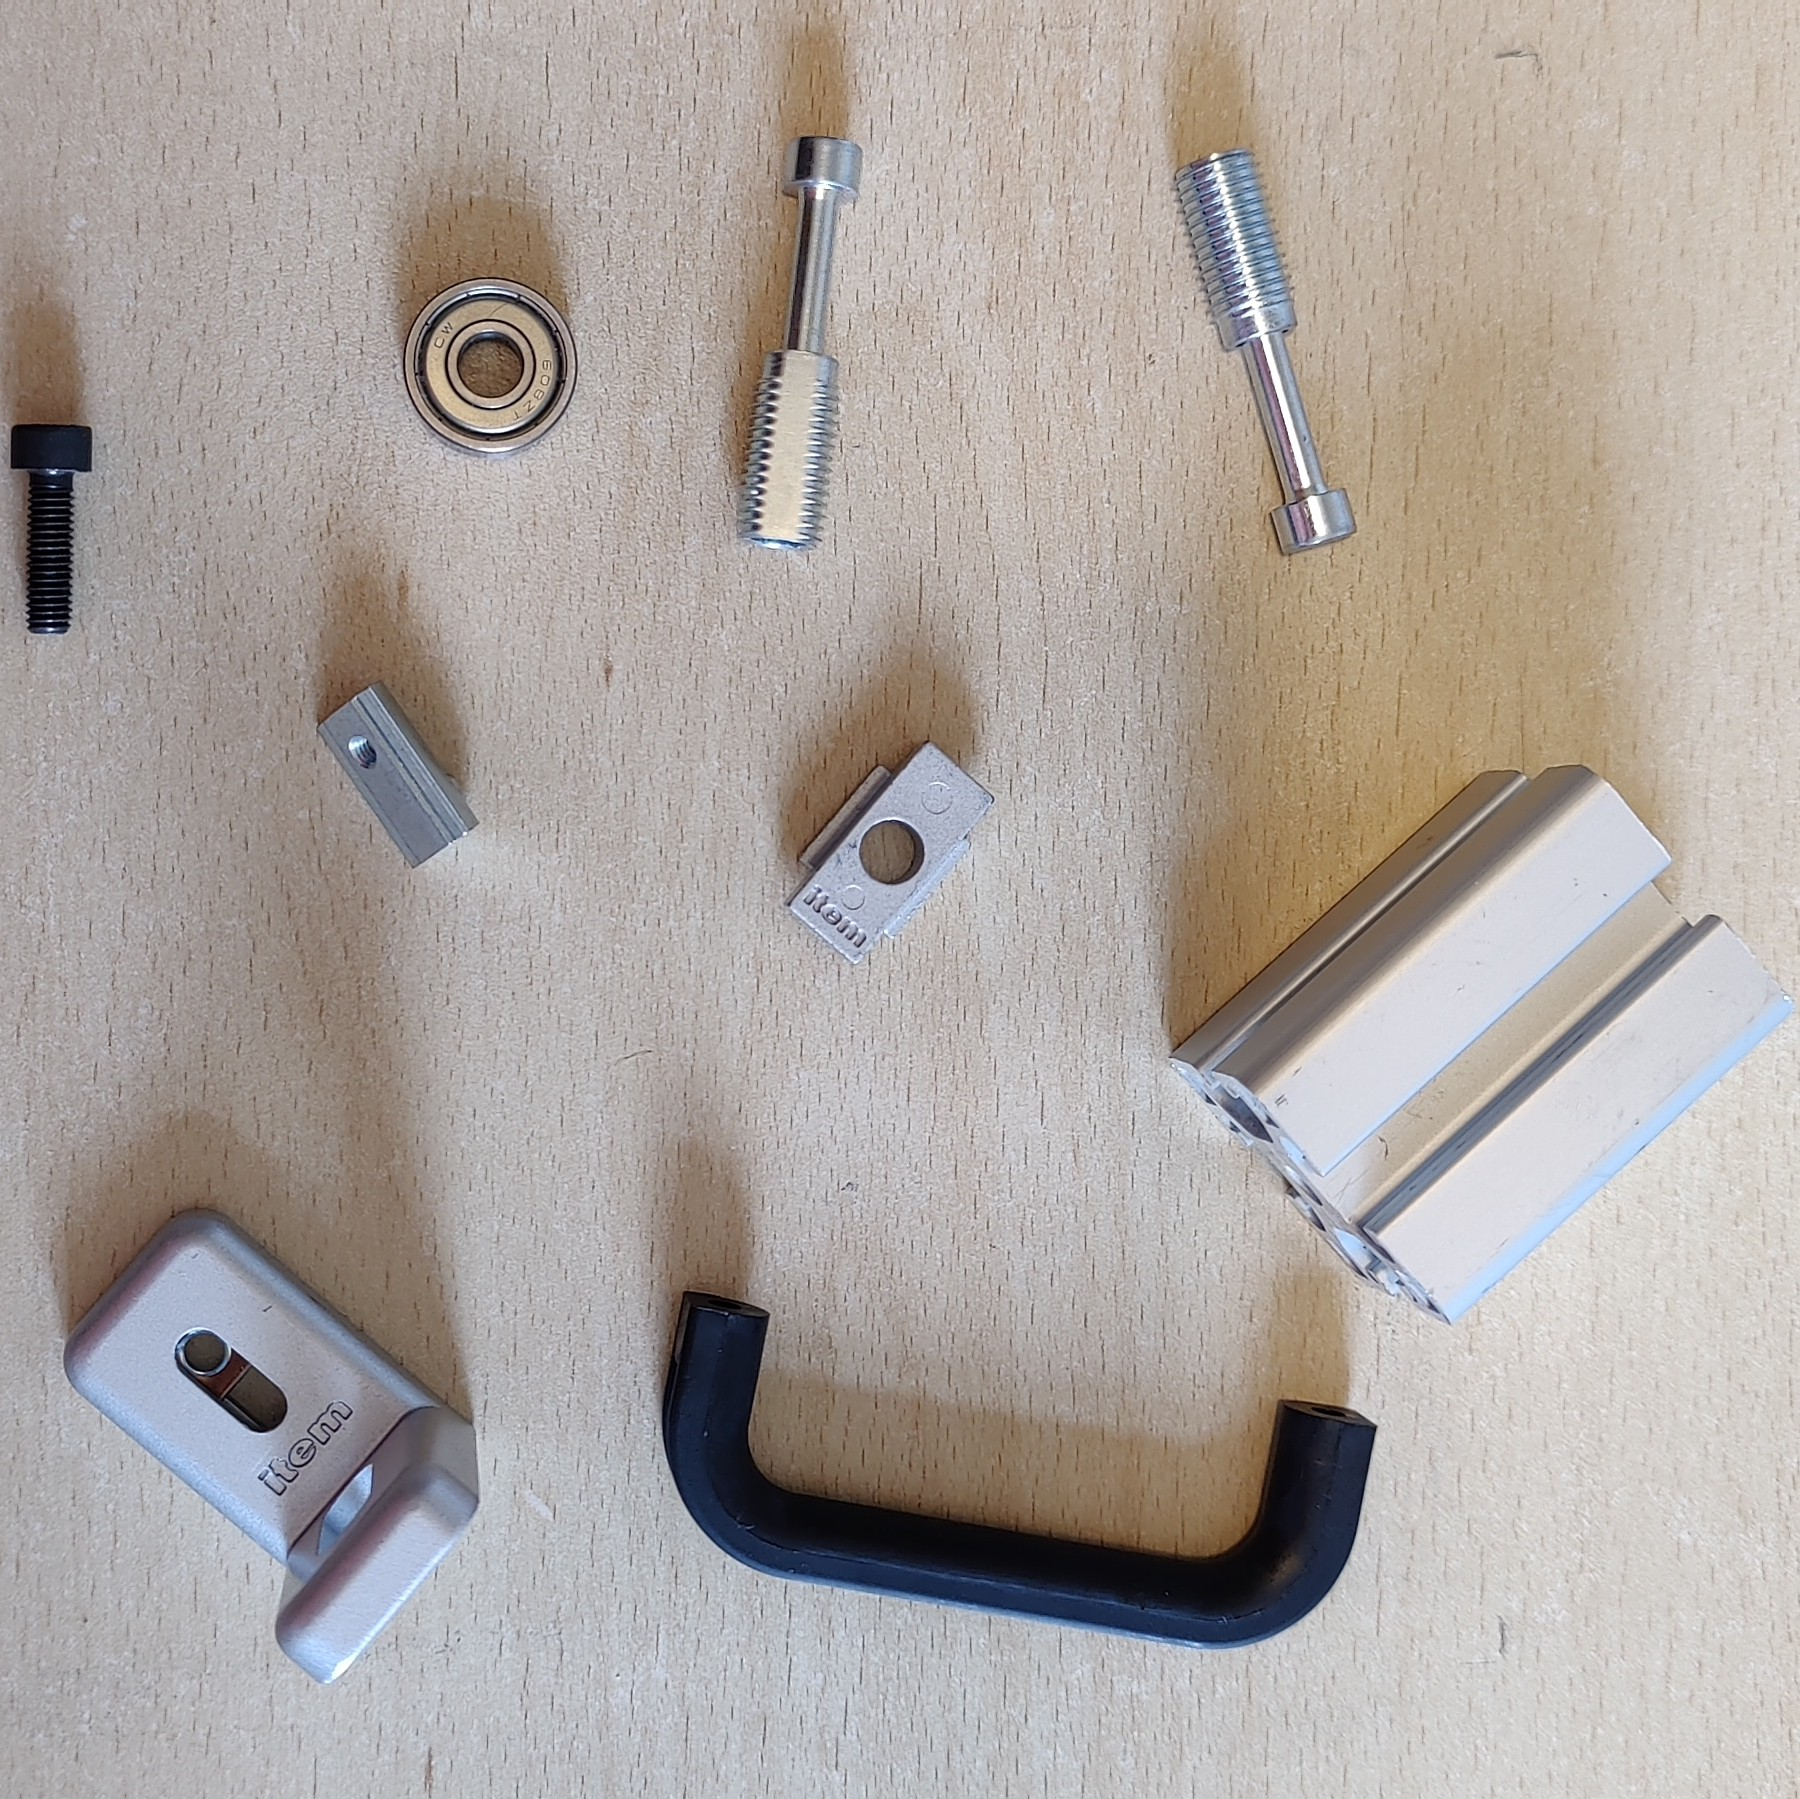Aluminium Extension: (1163, 759, 1800, 1329)
Ball Bearing: (400, 277, 578, 461)
Multiwinkel: (59, 1204, 483, 1687)
Pull Handle: (659, 1288, 1382, 1652)
Shoulder Socket Head Cap Screw: (1173, 145, 1360, 558), (733, 133, 866, 554)
Socket Head Cap Screw: (7, 422, 94, 634)
T Nut Square: (779, 738, 996, 969)
T Spring Nut: (315, 680, 483, 868)
